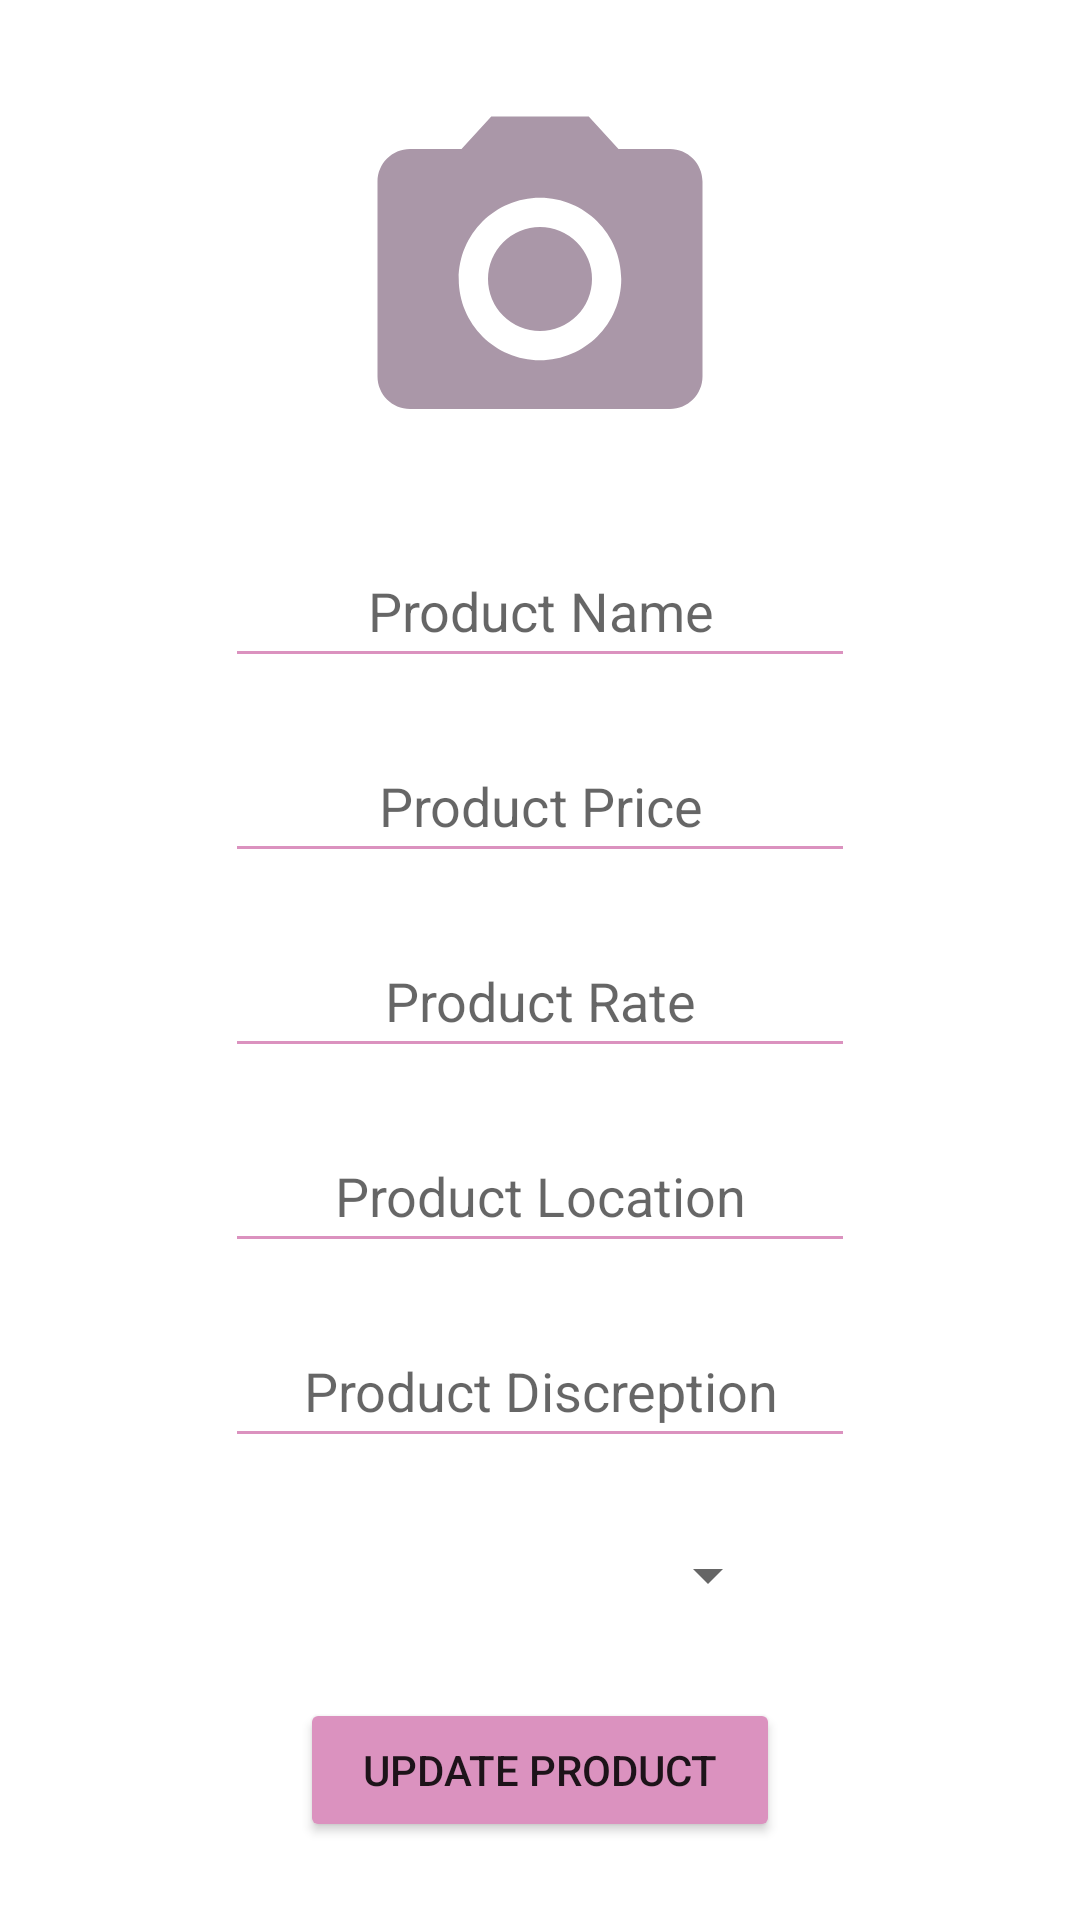

Screen size 1080×1920. Icon name, then its center in pixels as [x,y]:
camera: [540,262]
